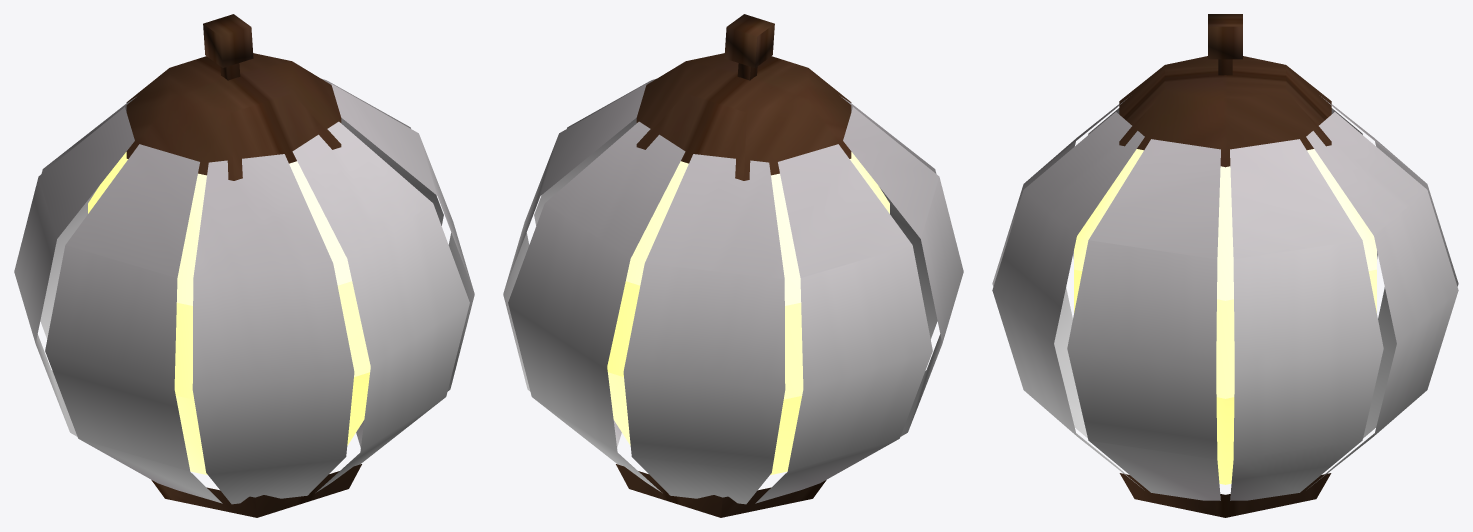
Rendered from lantern.festival.glb.
3 views of the same model, side by side, from view 1: azimuth 30°, elevation 25°; view 2: azimuth 150°, elevation 25°; view 3: azimuth 270°, elevation 25° (orthographic).
Parts seen in each view (by area): view 1: lantern, lantern.frame, lantern.heart; view 2: lantern, lantern.frame, lantern.heart; view 3: lantern, lantern.frame, lantern.heart.
Boxes of the visible parts, left/top/right/bottom form: lantern: left=14, top=78, right=474, bottom=504; lantern.frame: left=126, top=14, right=361, bottom=517; lantern.heart: left=88, top=152, right=370, bottom=474; lantern: left=503, top=78, right=963, bottom=504; lantern.frame: left=616, top=14, right=851, bottom=517; lantern.heart: left=607, top=152, right=889, bottom=474; lantern: left=992, top=96, right=1458, bottom=500; lantern.frame: left=1119, top=14, right=1331, bottom=517; lantern.heart: left=1074, top=149, right=1376, bottom=484.
Bounding box in the file's own units: 0.3987 × 0.4287 × 0.3997.
3 materials, 2 textured.
